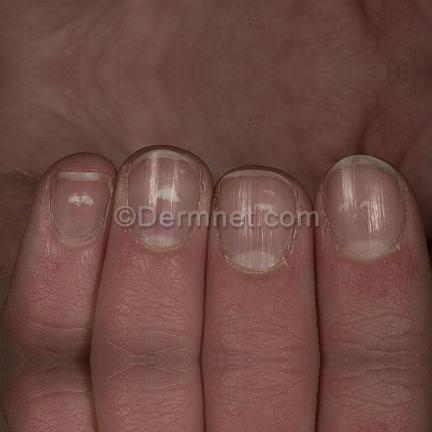Nail: (218, 170, 297, 270), (326, 155, 404, 254), (127, 149, 202, 246), (51, 172, 109, 241)
